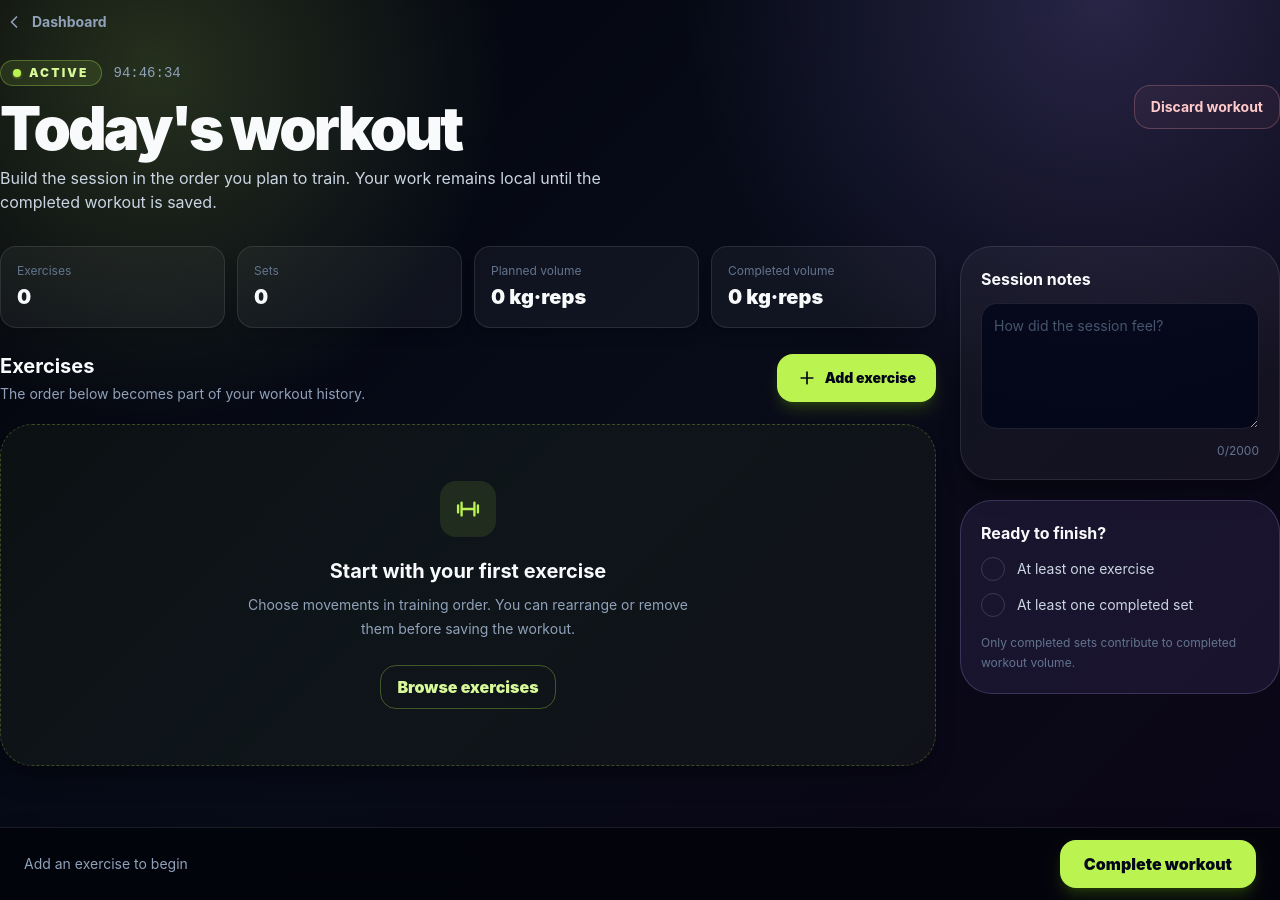
Scenario: ActiveWorkoutScreen › edits sets, copies the prior values, and reports live volume
Click the button "Browse exercises": (468, 687) left=380, top=665, right=556, bottom=709
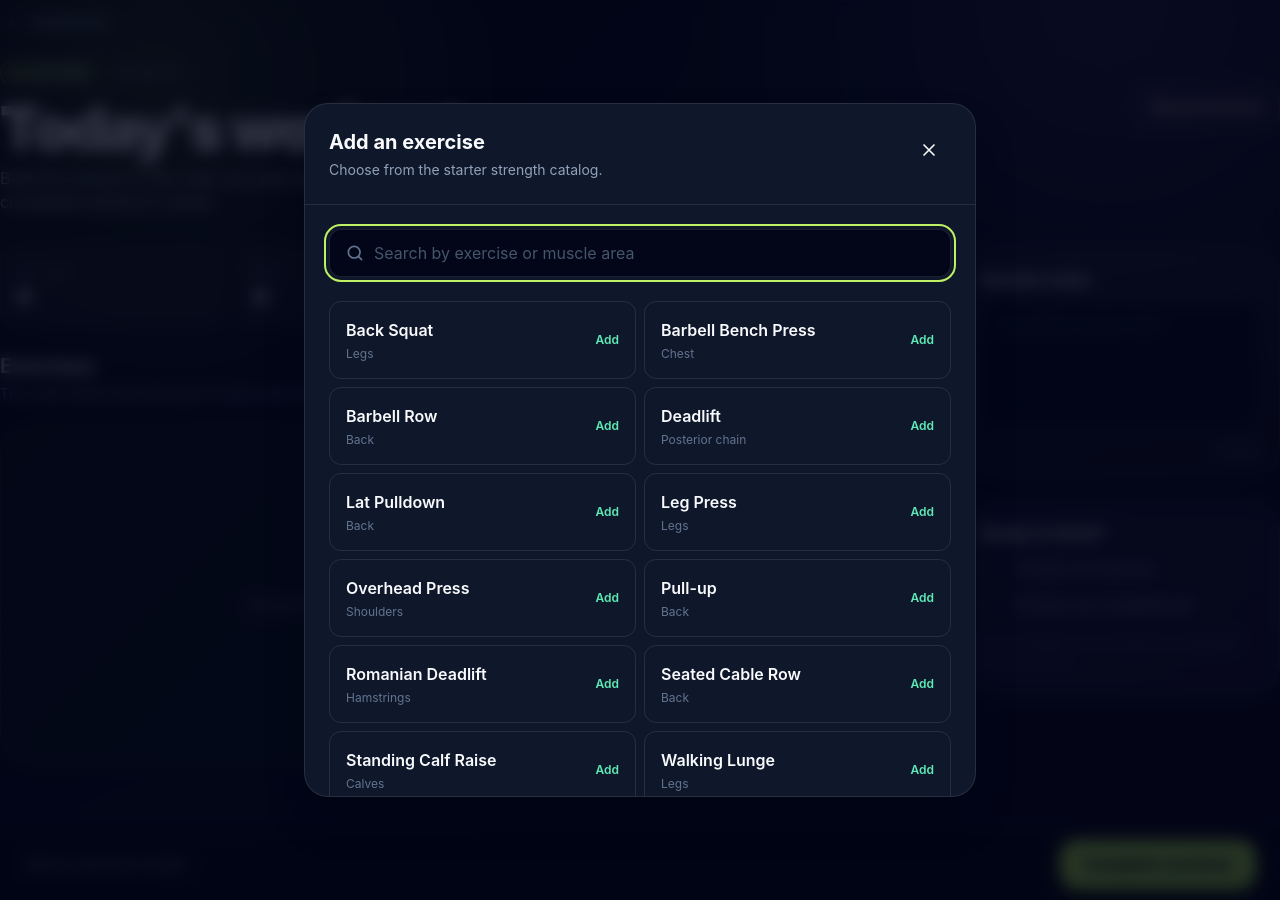
Click the button "Back Squat Legs Add": (390, 330) left=329, top=301, right=636, bottom=379
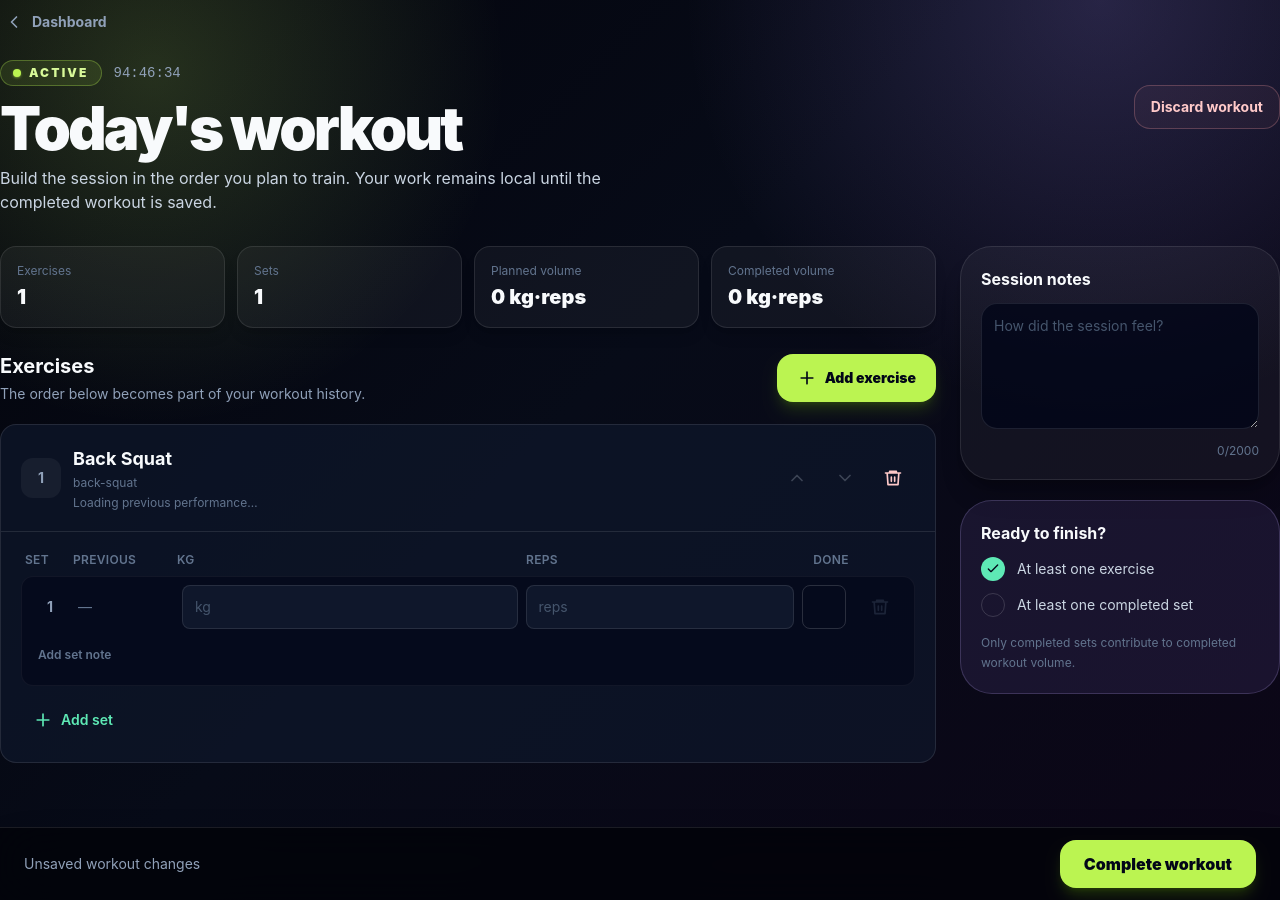
In the number field named "back squat set 1 weight in kilograms": (350, 607) left=182, top=585, right=518, bottom=629, type "100"
In the number field named "back squat set 1 repetitions": (660, 607) left=526, top=585, right=794, bottom=629, type "5"
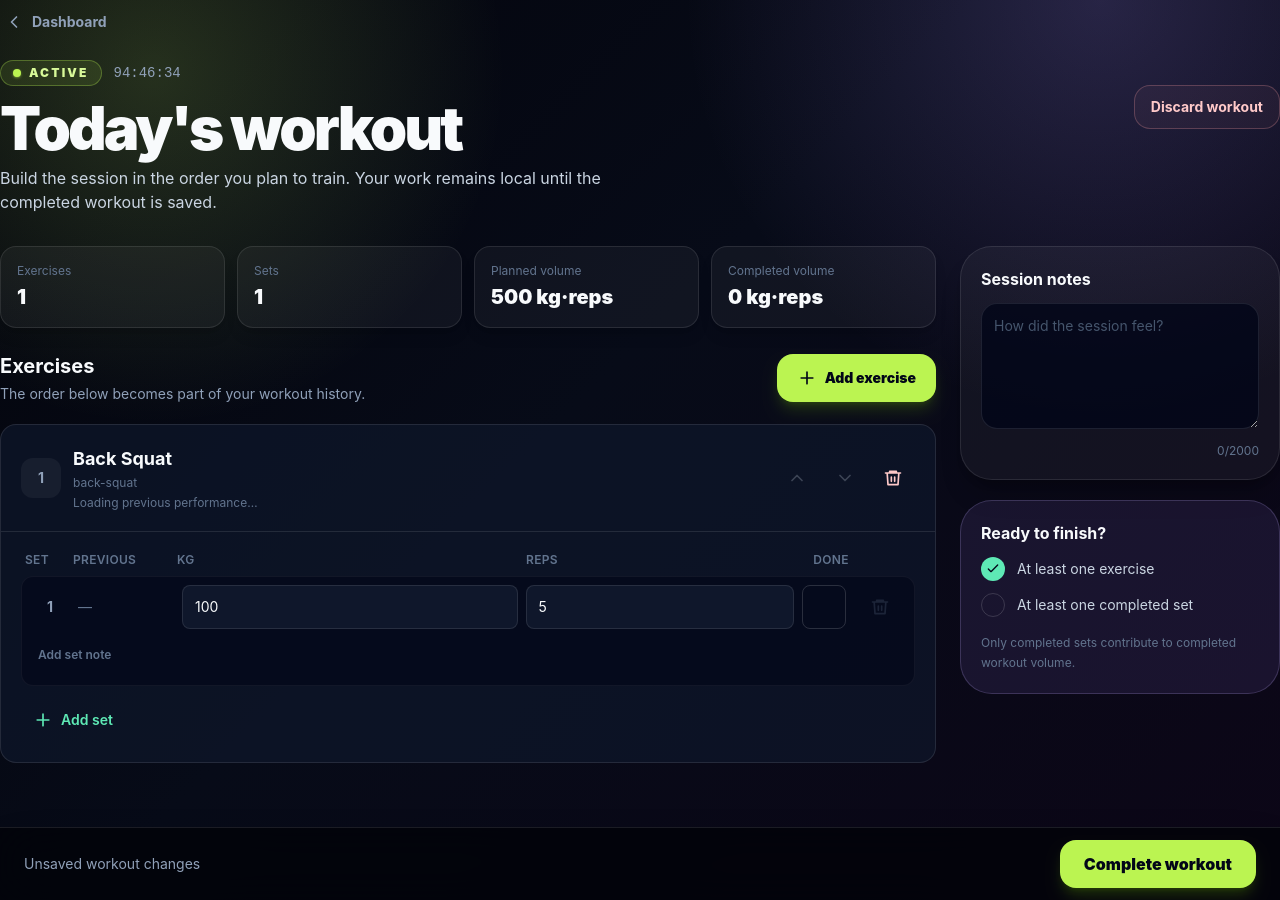
Click the button named "complete back squat set 1": (824, 607) left=802, top=585, right=846, bottom=629
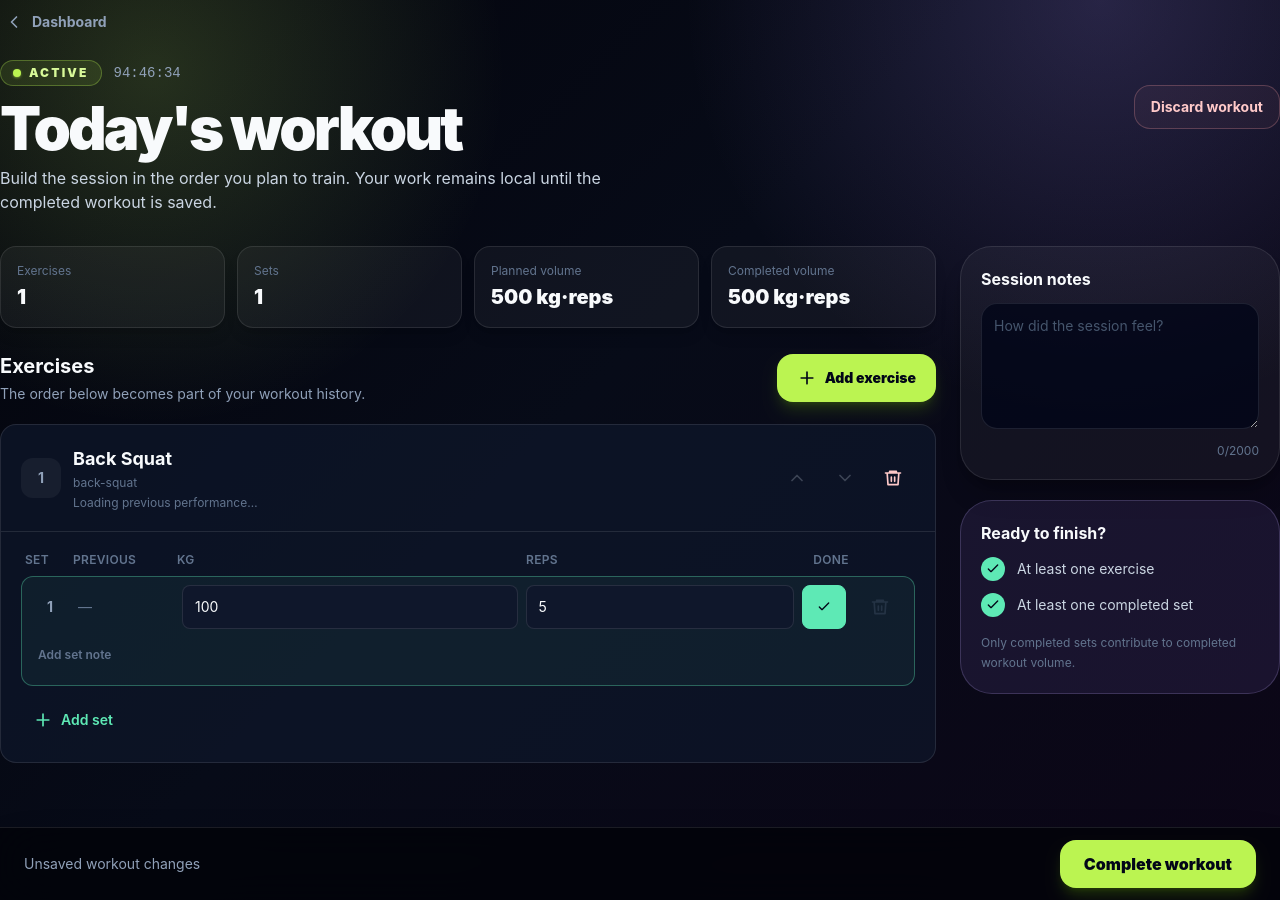
Check: the text "500 kg·reps" is shown 2 times, box left=491, top=285, right=613, bottom=309; left=728, top=285, right=850, bottom=309
Click the button "Add set": (73, 720) left=21, top=698, right=125, bottom=742
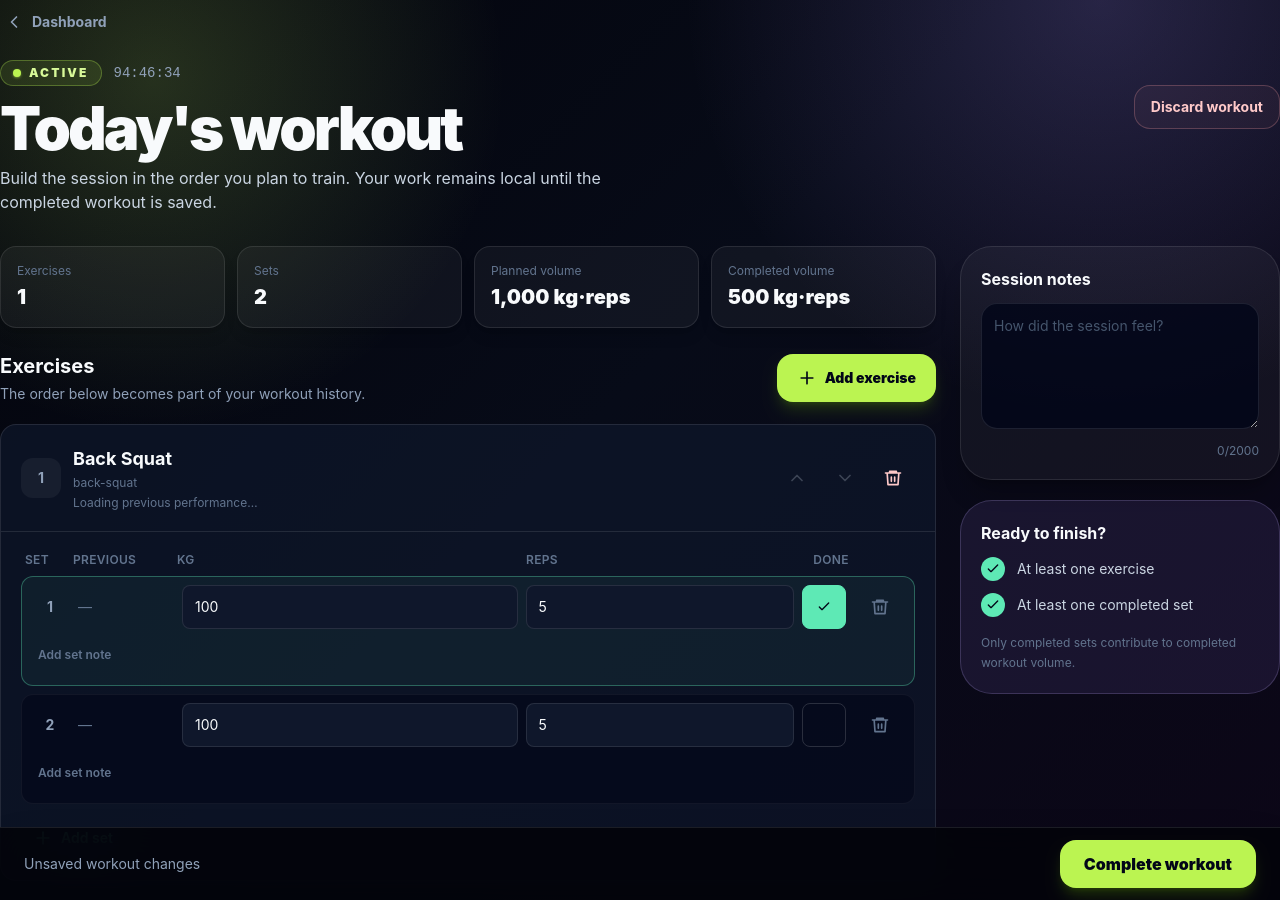
Check: the 3rd number field holds "100", box left=182, top=703, right=518, bottom=747
Check: the 4th number field holds "5", box left=526, top=703, right=794, bottom=747
Click the button named "remove back squat set 2": (880, 725) left=858, top=703, right=902, bottom=747
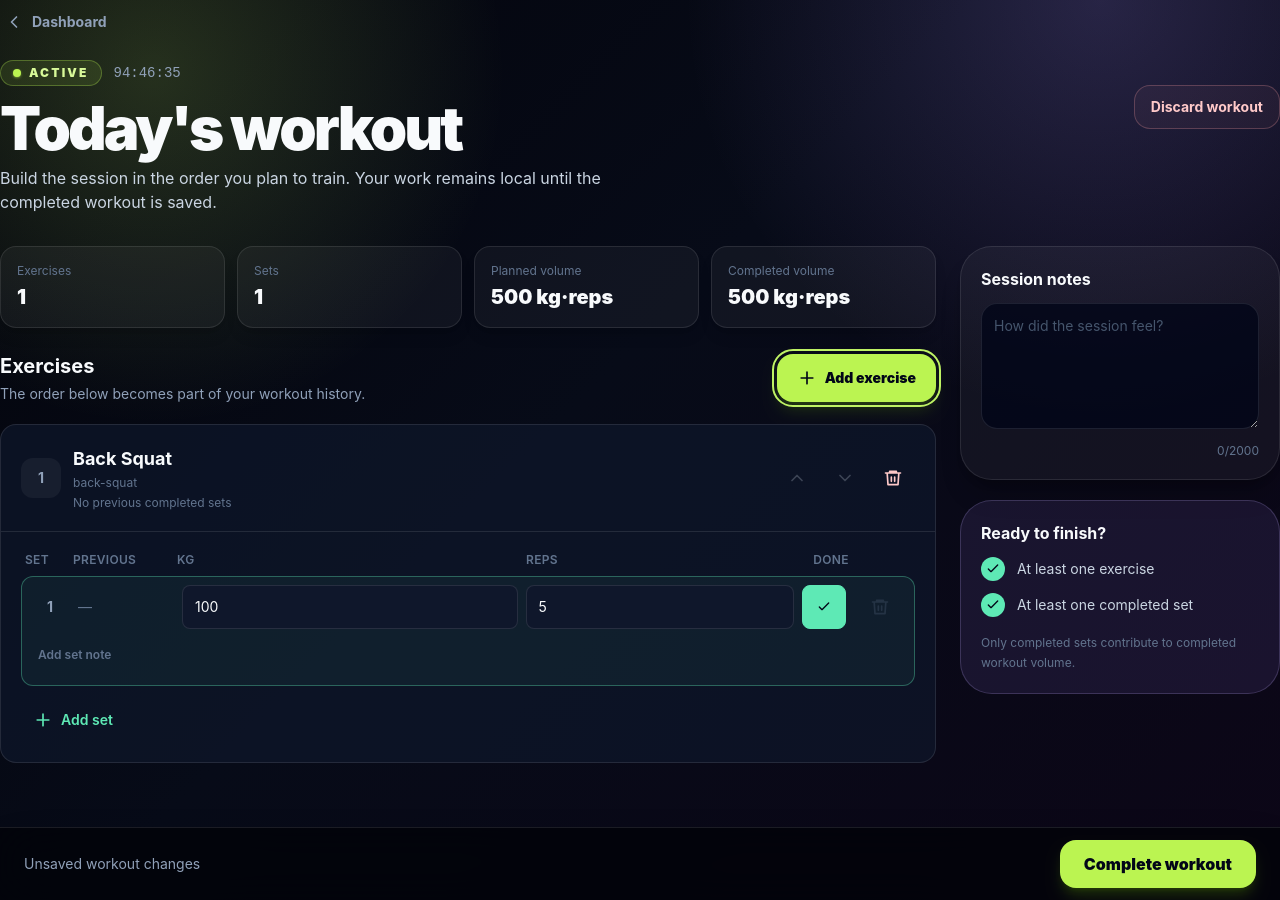
Check: the button named "remove back squat set 1" is disabled, box left=858, top=585, right=902, bottom=629
